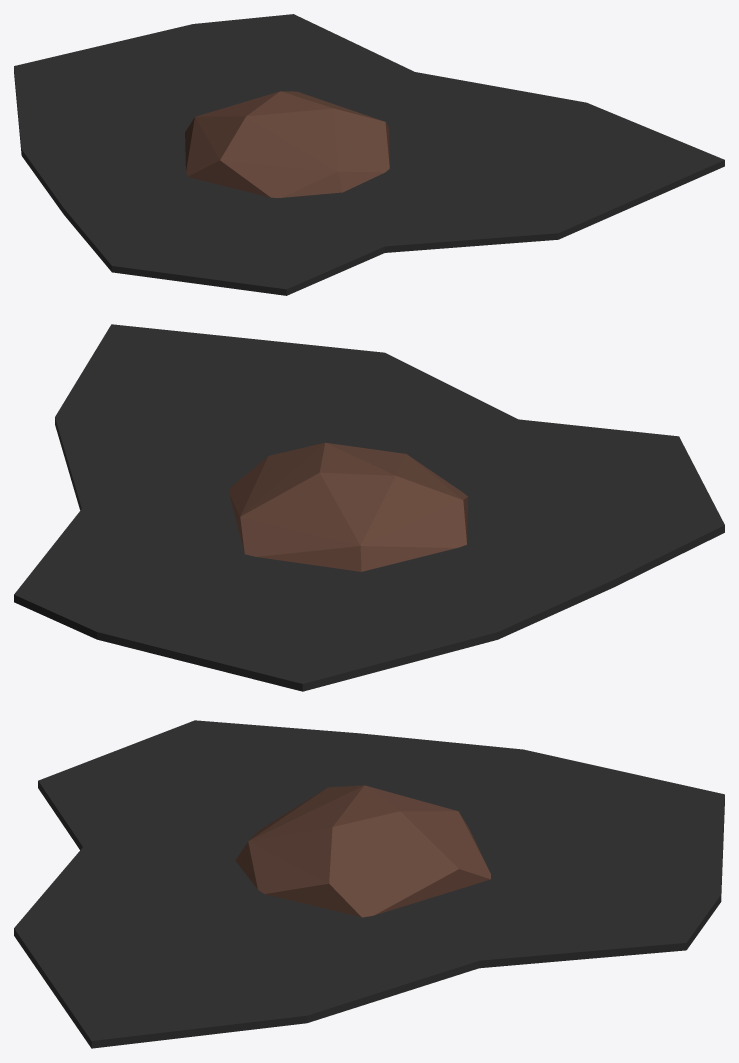
File: egg-burned-4e57e1c1b1.glb
3 views of the same model, one above another, from view 1: azimuth 30°, elevation 25°; view 2: azimuth 150°, elevation 25°; view 3: azimuth 270°, elevation 25° (orthographic). The views are drawn at different scales.
Parts seen in each view (by area): view 1: Egg_Burned.obj; view 2: Egg_Burned.obj; view 3: Egg_Burned.obj.
Part boxes in pixels (x1,y1,x2,y2): Egg_Burned.obj: [14, 14, 724, 295]; Egg_Burned.obj: [14, 324, 724, 691]; Egg_Burned.obj: [14, 720, 724, 1048].
Size of the model in its own units: 1.19 by 0.1071 by 1.12.
